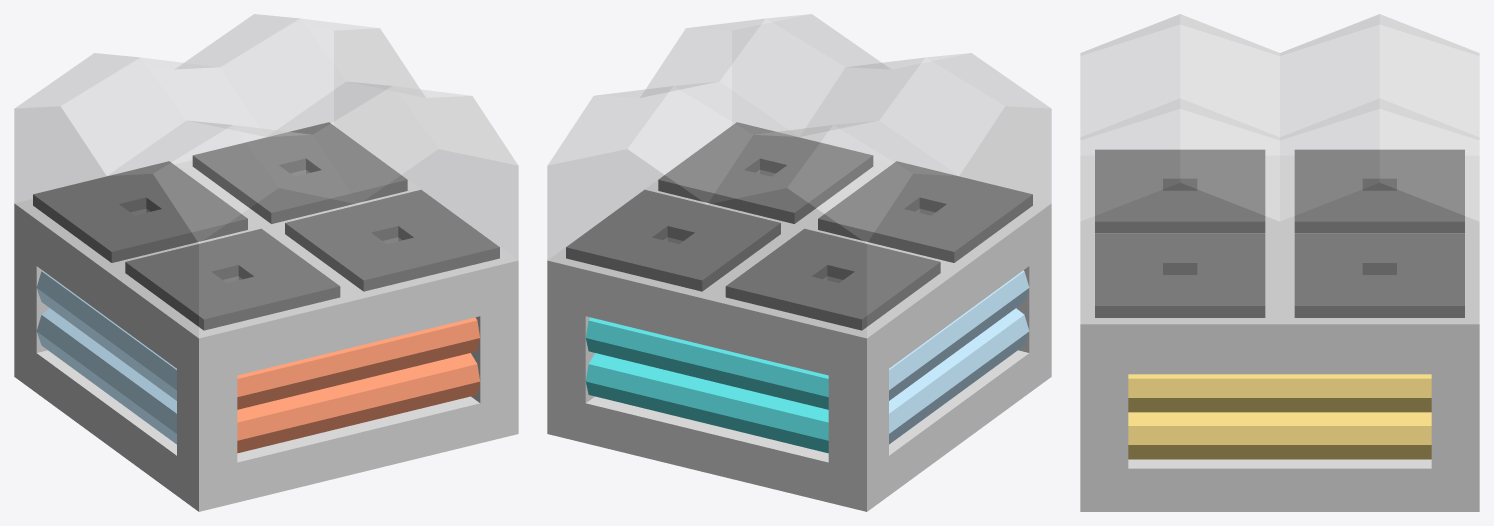
File: CookingStation.fbx
The picture shows the model from 3 angles, left to right: view 1: azimuth 30°, elevation 25°; view 2: azimuth 150°, elevation 25°; view 3: azimuth 270°, elevation 25°; orthographic projection. The views are drawn at different scales.
Visible parts, largest first — view 1: Cube, Glass; view 2: Cube, Glass; view 3: Cube, Glass.
Part boxes in pixels (bbox=[...]): Cube: bbox=[14, 122, 518, 511]; Glass: bbox=[14, 14, 518, 337]; Cube: bbox=[547, 122, 1051, 511]; Glass: bbox=[547, 14, 1051, 337]; Cube: bbox=[1080, 149, 1479, 511]; Glass: bbox=[1080, 14, 1479, 323].
Size of the model in its own units: 200 by 200 by 200.
